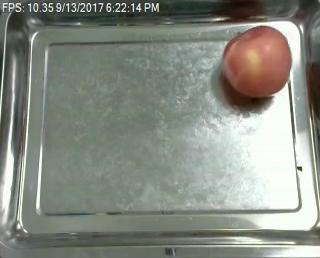apple: (221, 26, 293, 99)
